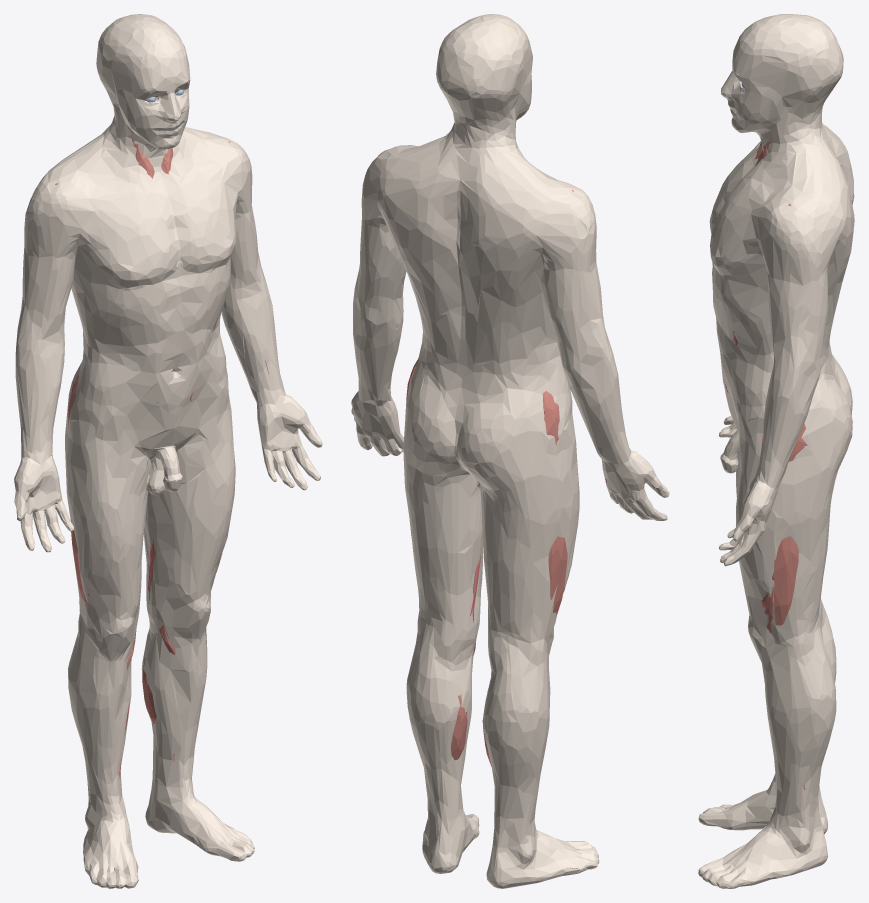
File: intrarat-body.web.glb
The picture shows the model from 3 angles, left to right: view 1: azimuth 30°, elevation 25°; view 2: azimuth 150°, elevation 25°; view 3: azimuth 270°, elevation 25°; orthographic projection. The views are drawn at different scales.
Visible parts, largest first — view 1: skin, muscles-leg-left, muscles-leg-right; view 2: skin, muscles-leg-right, muscles-leg-left; view 3: skin, muscles-leg-left.
Boxes of the visible parts, <box> form: skin: <box>14,14,322,888</box>; muscles-leg-left: <box>142,537,222,724</box>; muscles-leg-right: <box>68,375,136,670</box>; skin: <box>351,14,669,888</box>; muscles-leg-right: <box>482,390,567,766</box>; muscles-leg-left: <box>406,357,481,760</box>; skin: <box>698,14,854,888</box>; muscles-leg-left: <box>761,423,807,789</box>.
Bounding box in the file's own units: 0.6669 × 1.72 × 0.2922.
